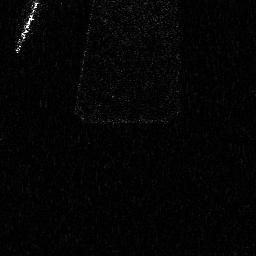ship: (13, 1, 38, 53)
